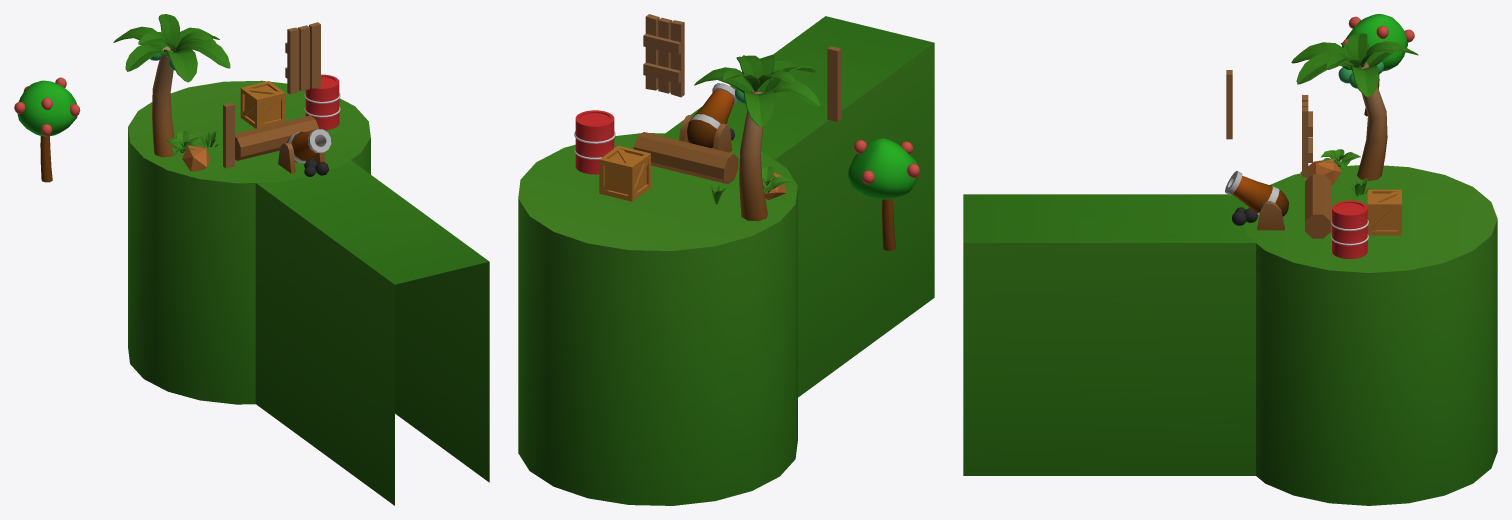
The model's file is Forest.fbx.
3 views of the same model, side by side, from view 1: azimuth 30°, elevation 25°; view 2: azimuth 150°, elevation 25°; view 3: azimuth 270°, elevation 25° (orthographic). The views are drawn at different scales.
Visible parts, largest first — view 1: Ground, la, La, wood_1, than, wood_3, Cannon, Wood_box, Drum, wood_2, Stone; view 2: Ground, la, La, than (×2), wood_3, wood_1, Cannon, Wood_box, Drum, wood_2; view 3: Ground, la, Cannon, than, Drum, La, Wood_box, wood_3, wood_1.
Boxes of the visible parts, box(x1,y1,x2,y2) form: Ground: box(128, 80, 489, 505); la: box(113, 14, 230, 82); La: box(14, 77, 80, 136); wood_1: box(285, 22, 320, 94); than: box(150, 46, 176, 157); wood_3: box(235, 115, 319, 160); Cannon: box(278, 129, 331, 176); Wood_box: box(240, 81, 285, 128); Drum: box(304, 74, 340, 130); wood_2: box(223, 102, 234, 168); Stone: box(182, 145, 210, 171); Ground: box(518, 16, 934, 505); la: box(694, 54, 820, 127); La: box(848, 138, 919, 199); than (×2): box(735, 88, 896, 250); wood_3: box(633, 132, 738, 184); wood_1: box(643, 14, 684, 97); Cannon: box(679, 83, 737, 152); Wood_box: box(599, 145, 650, 201); Drum: box(574, 110, 615, 174); wood_2: box(827, 46, 841, 121); Ground: box(963, 165, 1497, 505); la: box(1291, 33, 1418, 97); Cannon: box(1225, 171, 1288, 230); than: box(1338, 61, 1387, 180); Drum: box(1330, 200, 1368, 258); La: box(1342, 14, 1414, 71); Wood_box: box(1367, 189, 1401, 235); wood_3: box(1305, 174, 1331, 238); wood_1: box(1302, 95, 1312, 177).
Bounding box in the file's own units: 1078 × 1068 × 1409.
